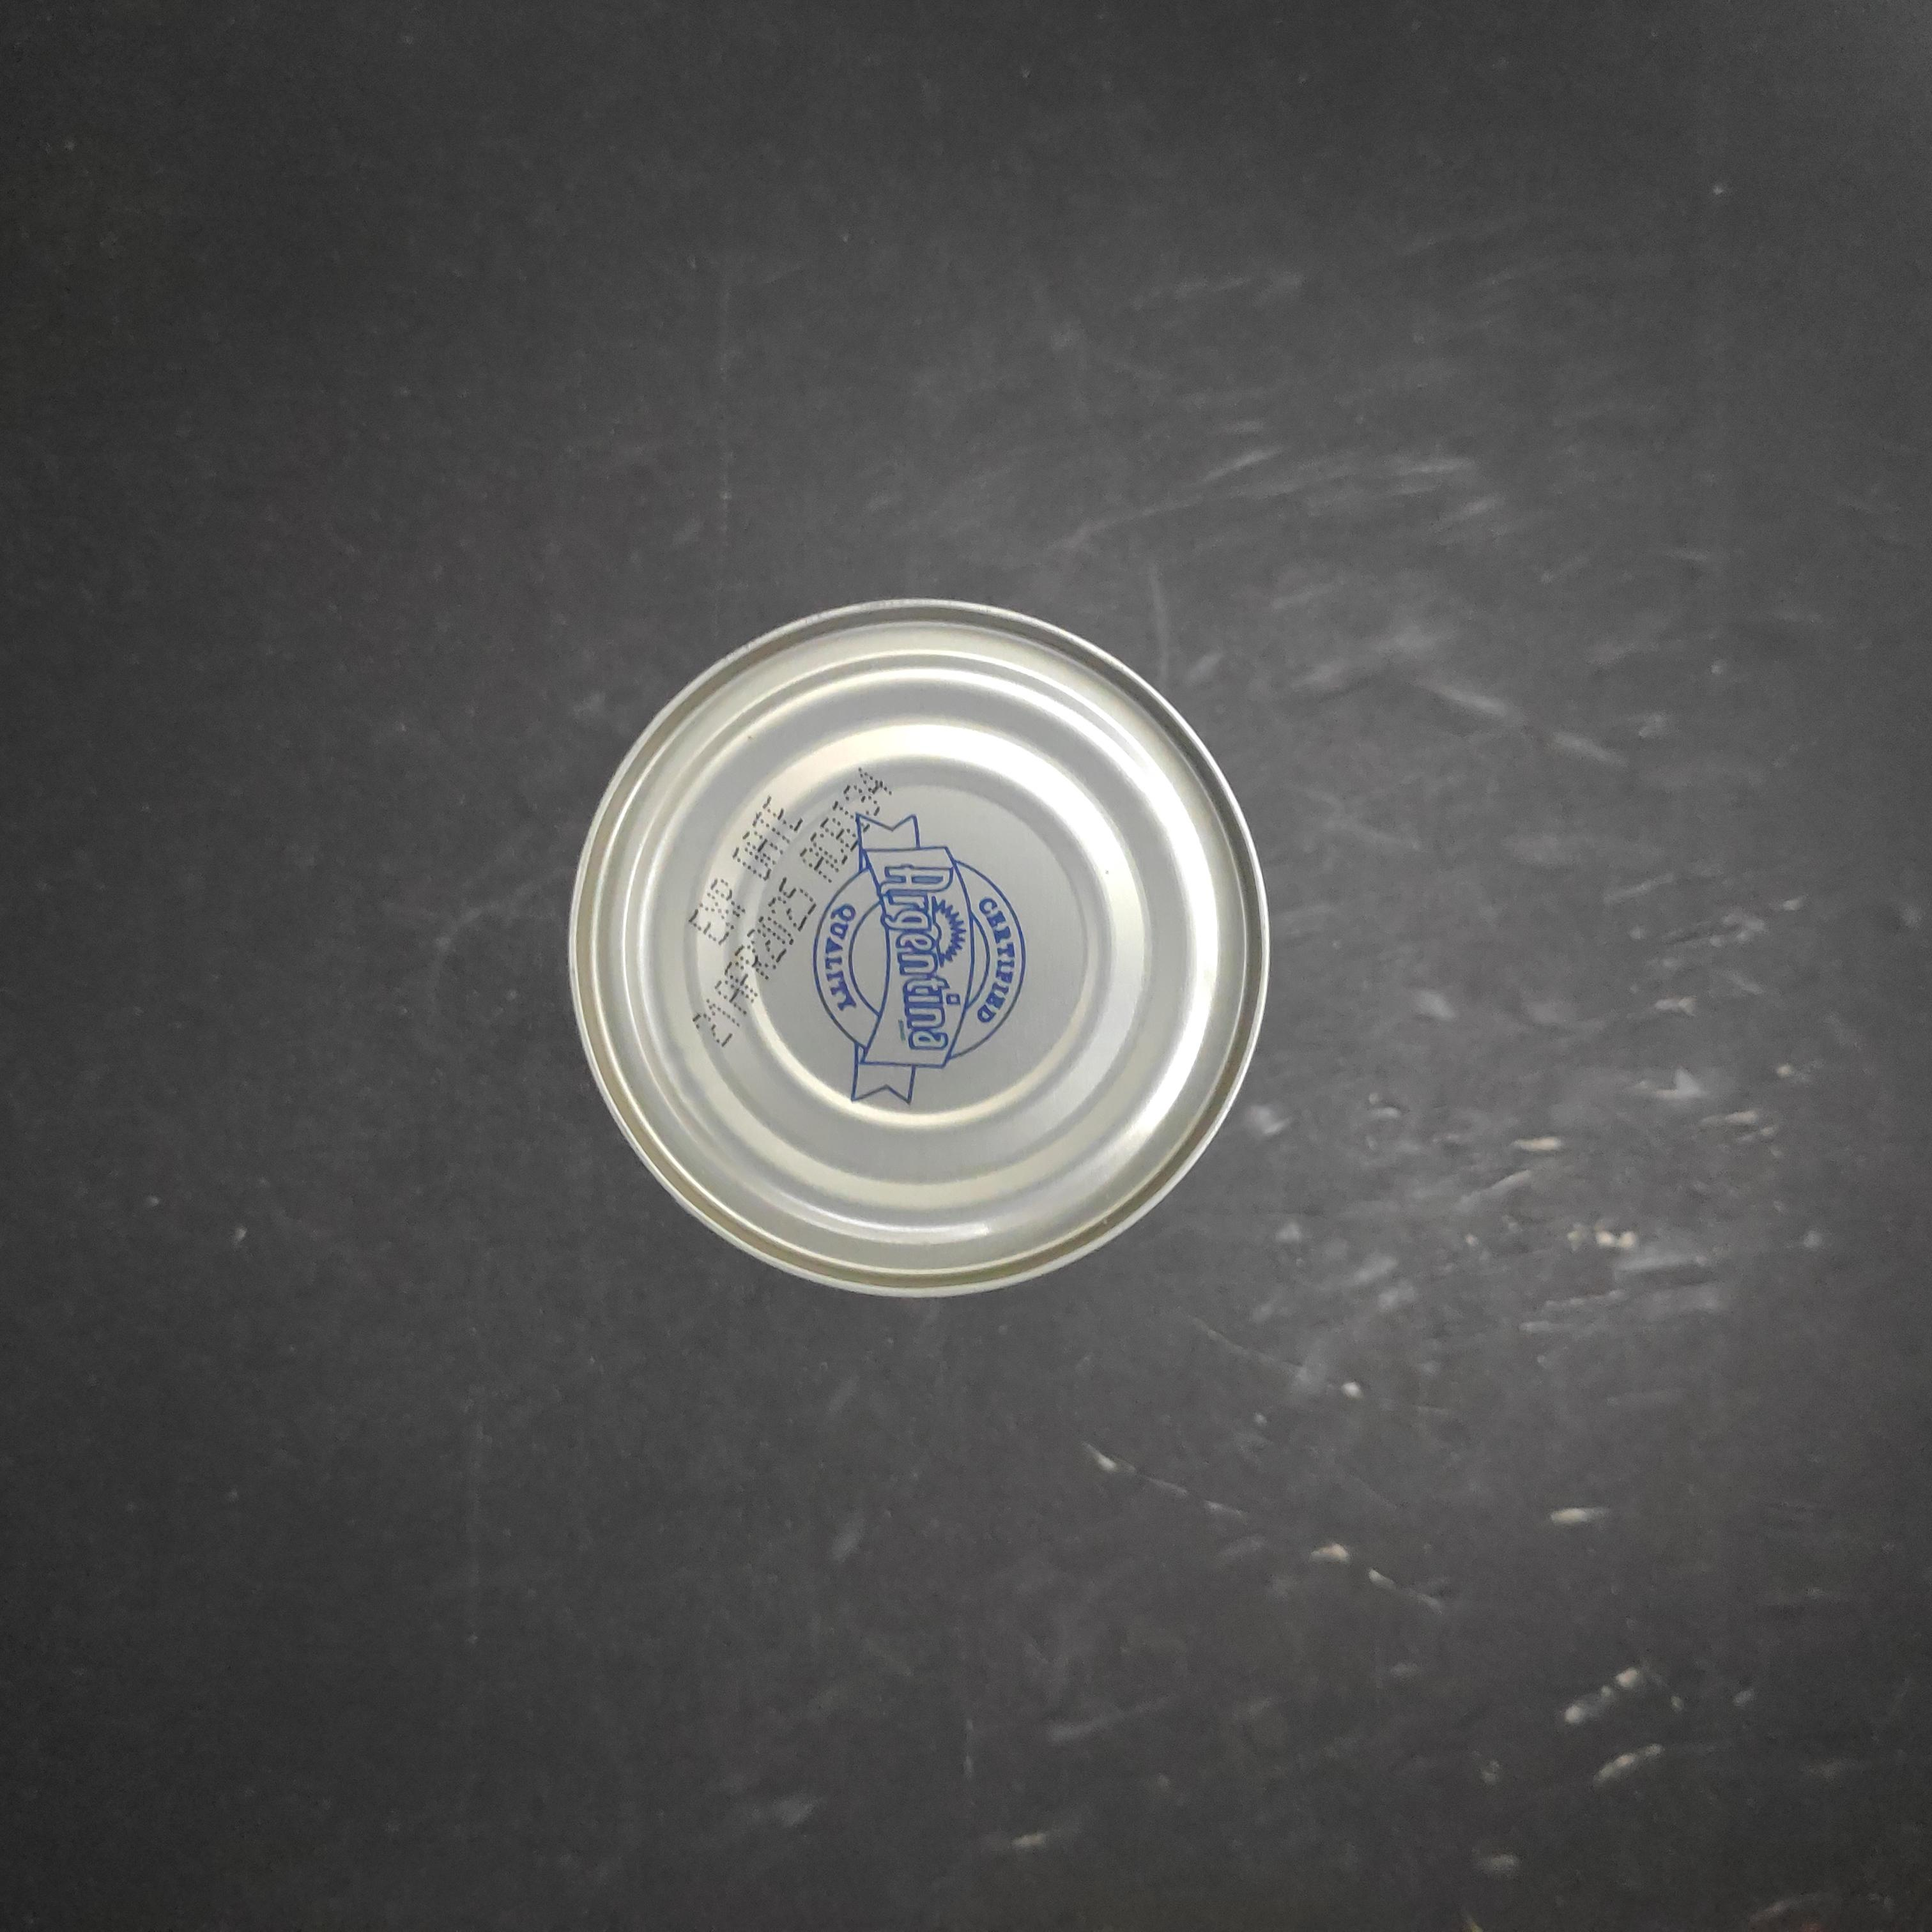No defect: (550, 589, 1281, 1318)
